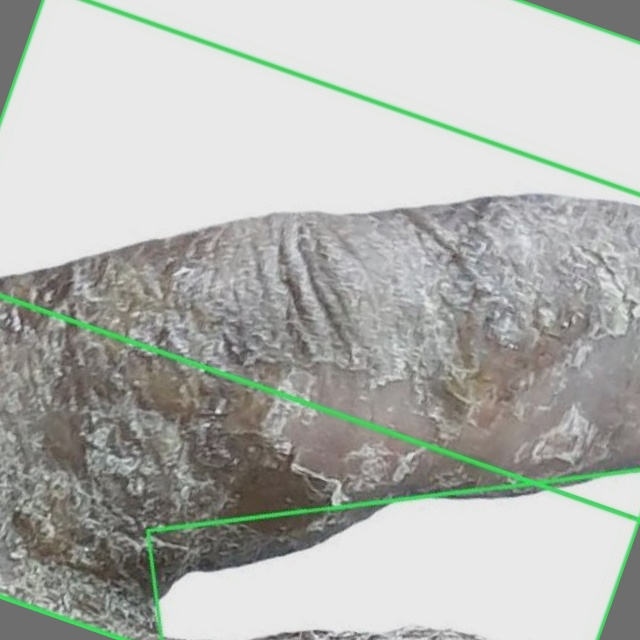Eczema: (0, 0, 639, 639), (0, 0, 639, 519), (145, 470, 639, 639)
